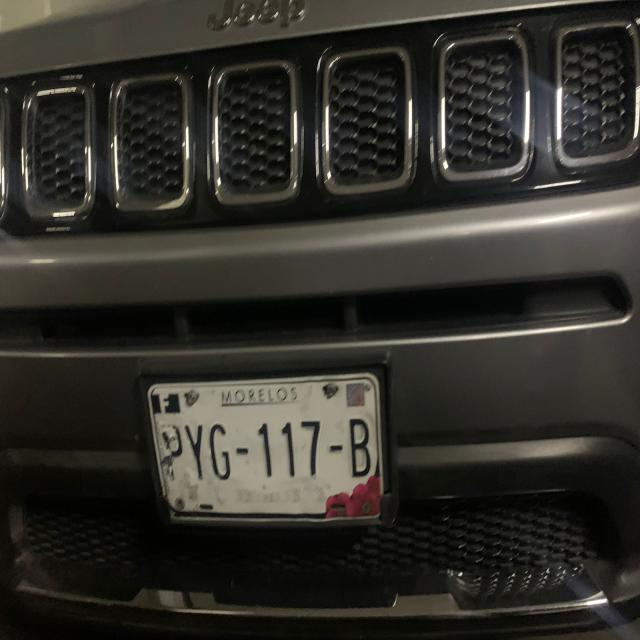placa: (155, 416, 378, 484)
